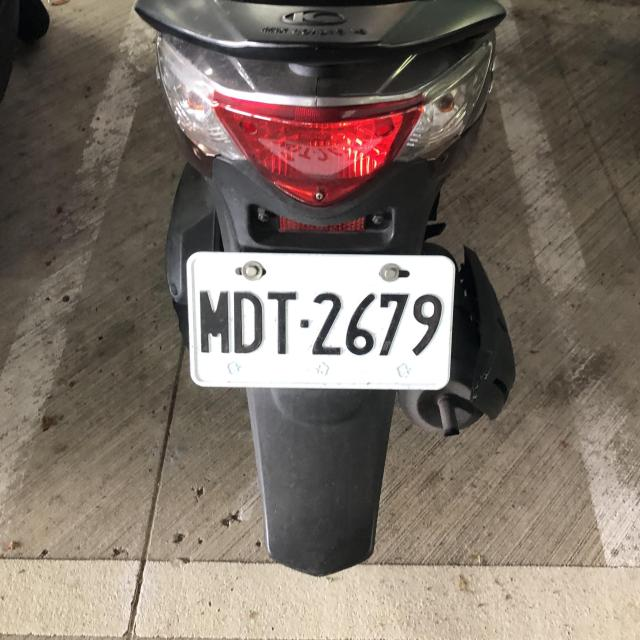W: (182, 243, 455, 396)
